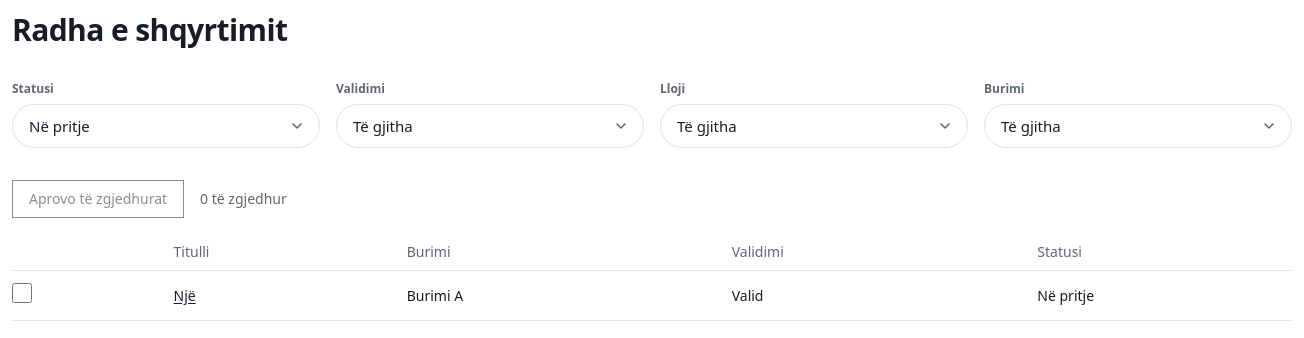
Test: ReviewQueuePage › clears the selection when a filter changes
Click the checkbox named "Zgjidh Një": [22, 293] box [12,283,32,303]
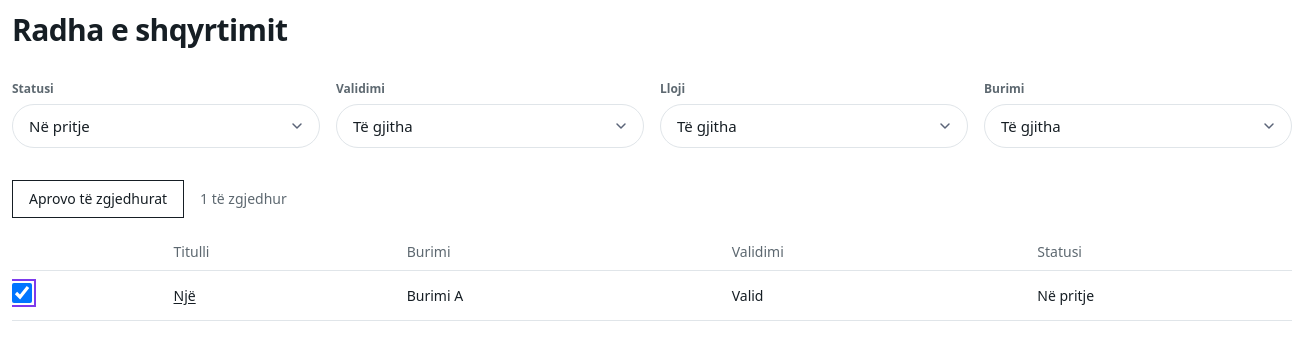
Result: the text "1 të zgjedhur" is shown at [200,189,287,209]
Select "Event" in the dropdown labelled "Lloji": [814, 126] box [660,104,968,148]
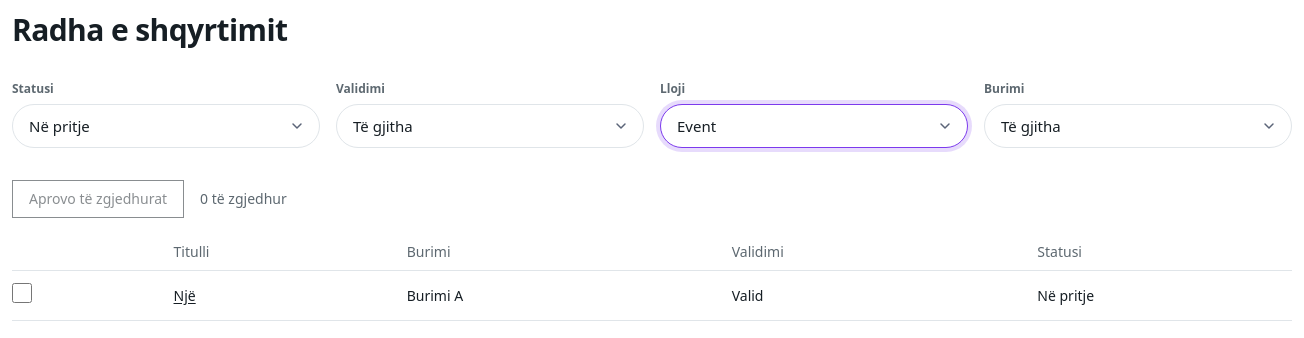
Result: the text "0 të zgjedhur" is shown at [200,189,287,209]
Result: the button "Aprovo të zgjedhurat" is disabled at [12,180,184,218]
